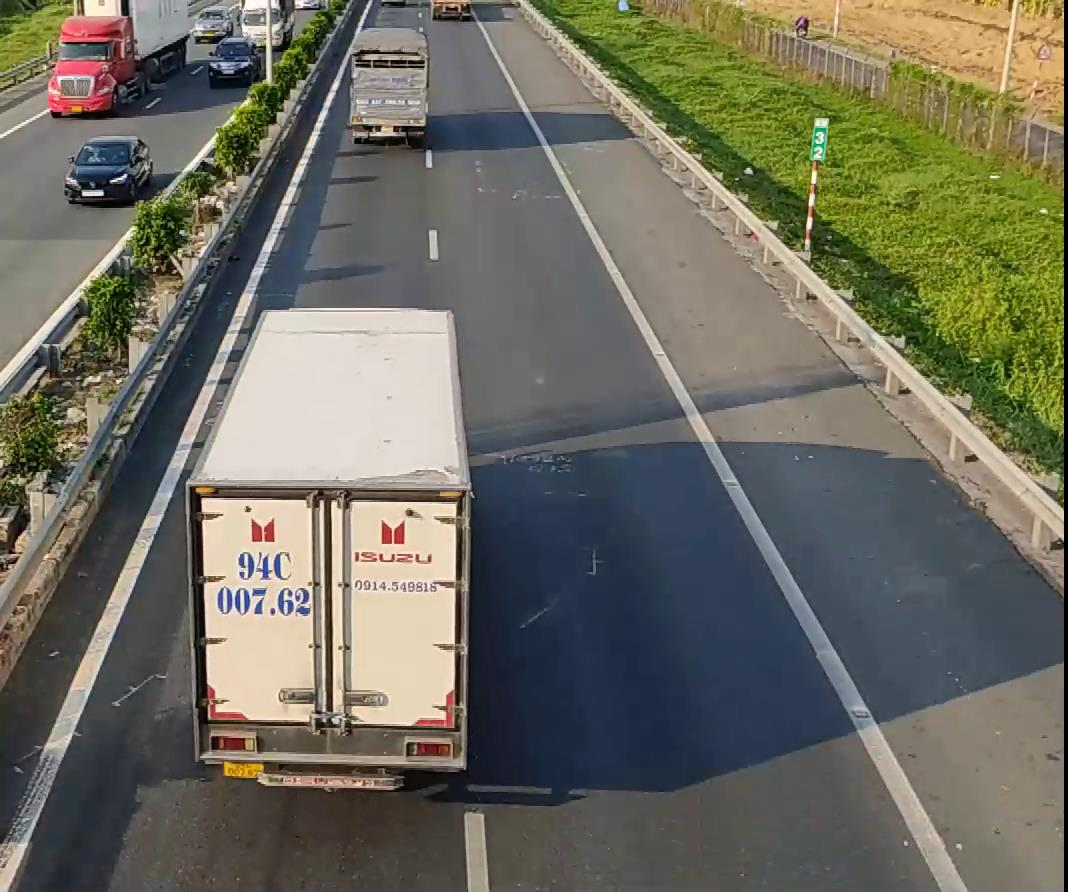car: (62, 133, 152, 204)
container: (48, 1, 193, 120)
truck: (180, 298, 477, 793), (345, 2, 430, 144)
